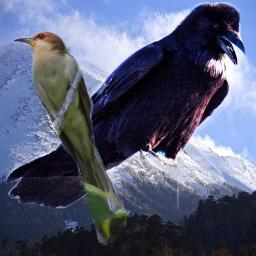Crow: (6, 2, 246, 209)
Cuckoo: (13, 30, 127, 245)
